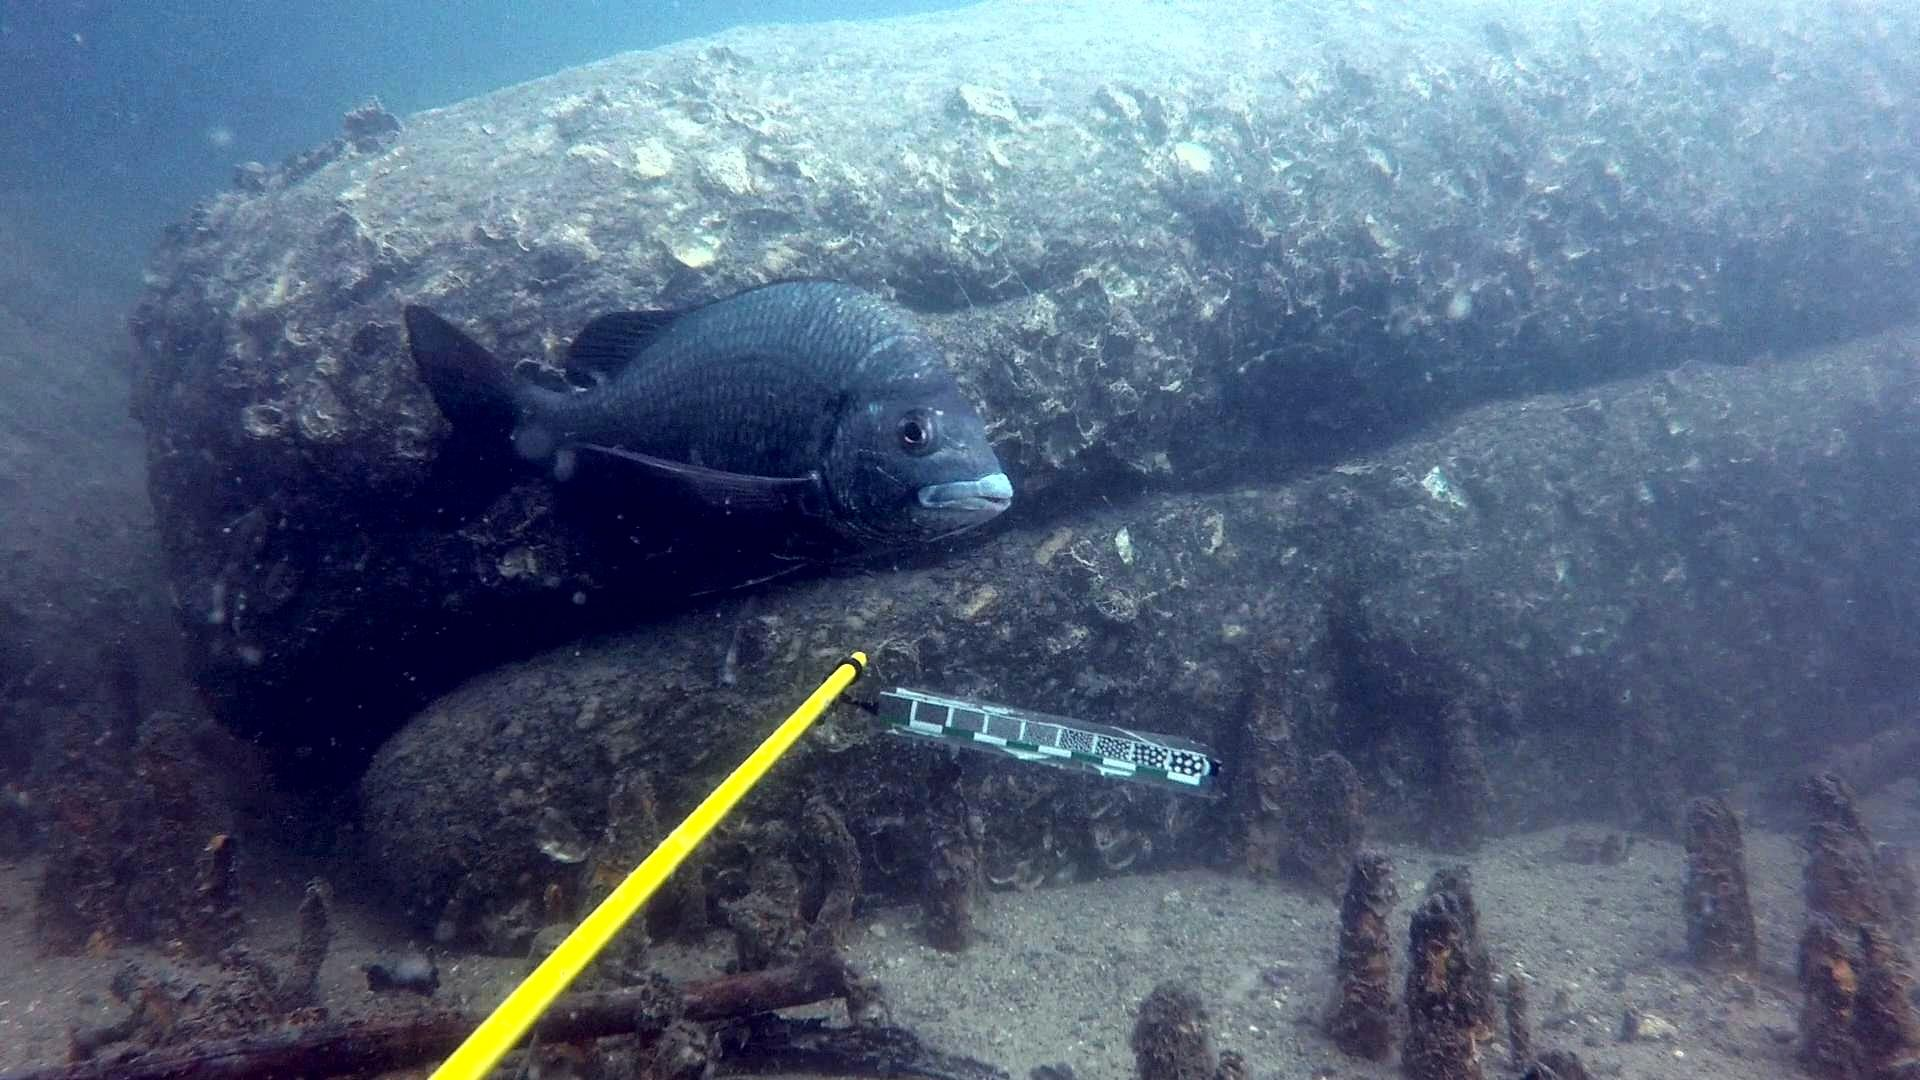acanthopagrus palmaris: (382, 266, 1025, 587)
